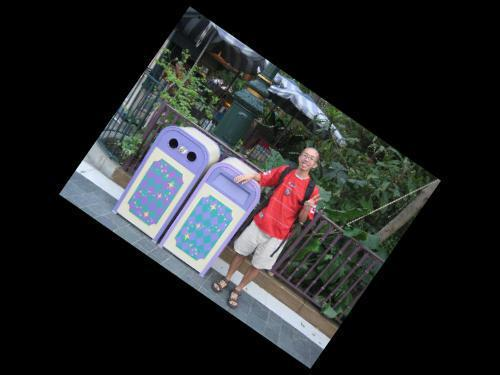Bote de Basura: (158, 150, 273, 279), (111, 117, 225, 244)
